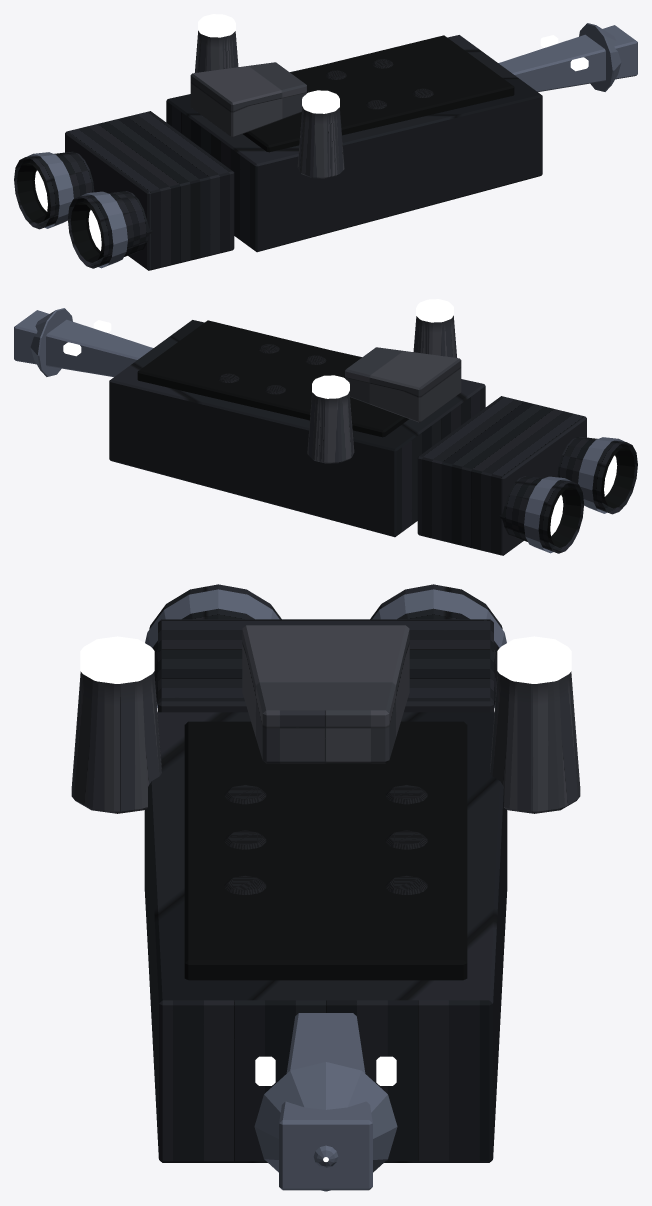
The model's file is mining_barge.glb.
3 renders of one model, top to bottom at view 1: azimuth 30°, elevation 25°; view 2: azimuth 150°, elevation 25°; view 3: azimuth 270°, elevation 25°, orthographic. The views are drawn at different scales.
Parts seen in each view (by area): view 1: mining_barge; view 2: mining_barge; view 3: mining_barge.
Part boxes in pixels (bbox=[...]): mining_barge: bbox=[14, 14, 637, 270]; mining_barge: bbox=[14, 299, 637, 555]; mining_barge: bbox=[71, 584, 580, 1191].
Bounding box in the file's own units: 40 × 9.82 × 15.43.
Materials: 1 (1 with a texture image).
